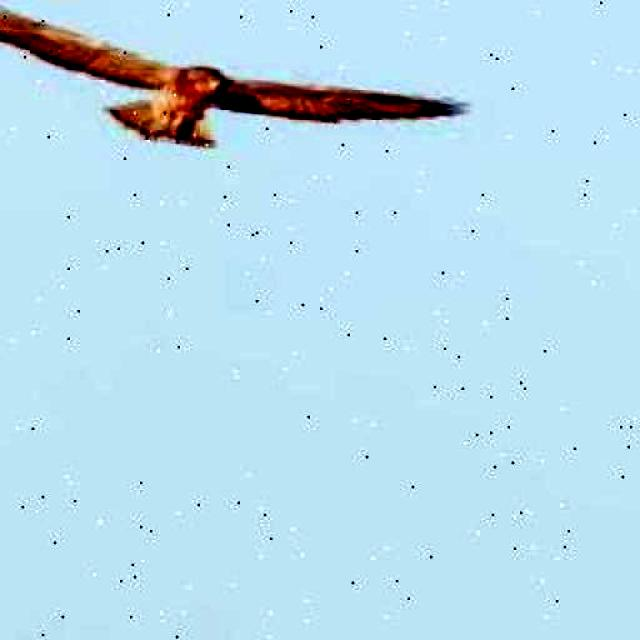airplane: (0, 0, 479, 176)
